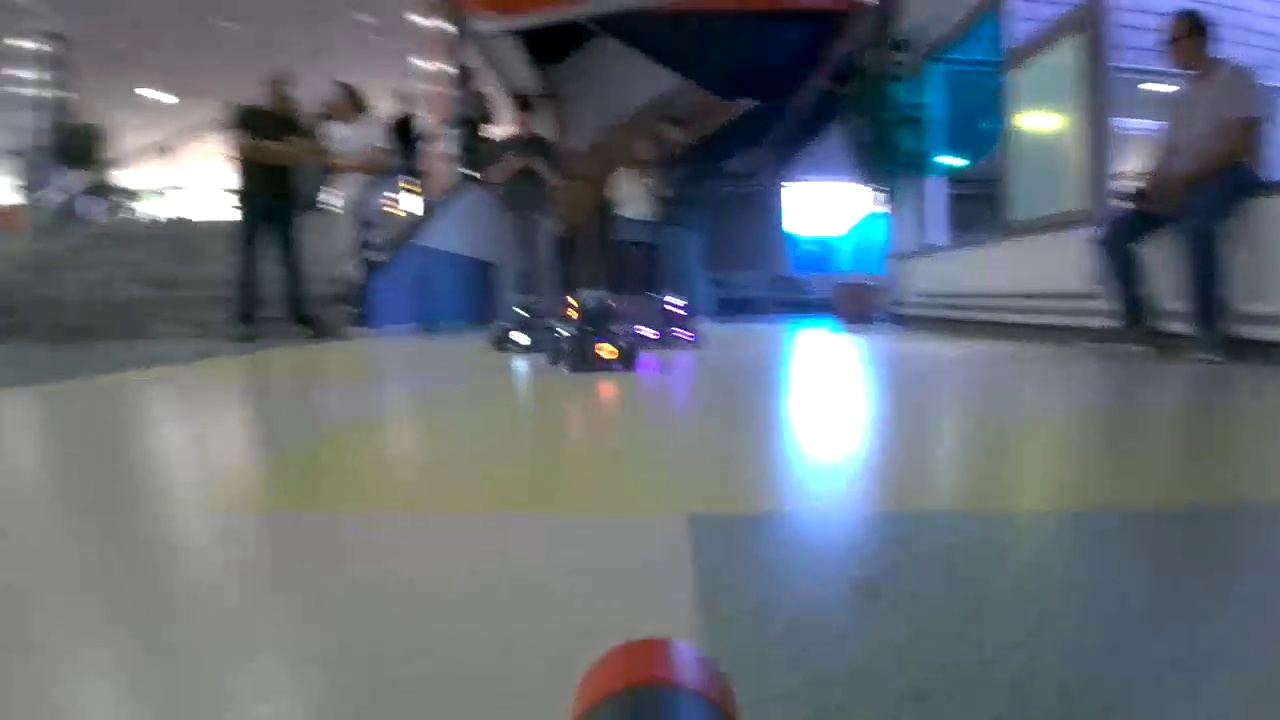robot: (566, 292, 626, 374), (486, 298, 558, 348), (640, 294, 698, 344)
